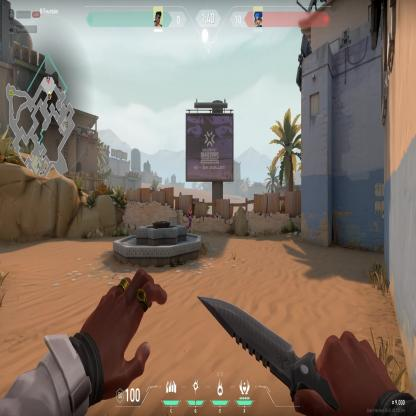enemy: (186, 204, 193, 233)
